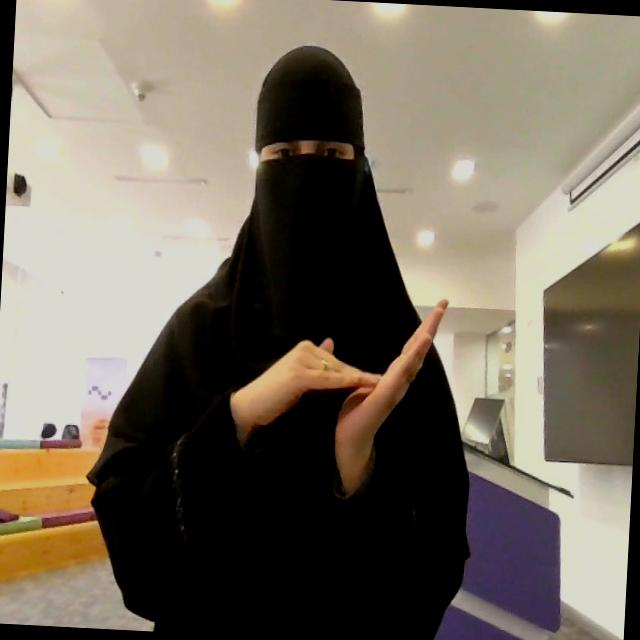complaint: (234, 284, 452, 484)
